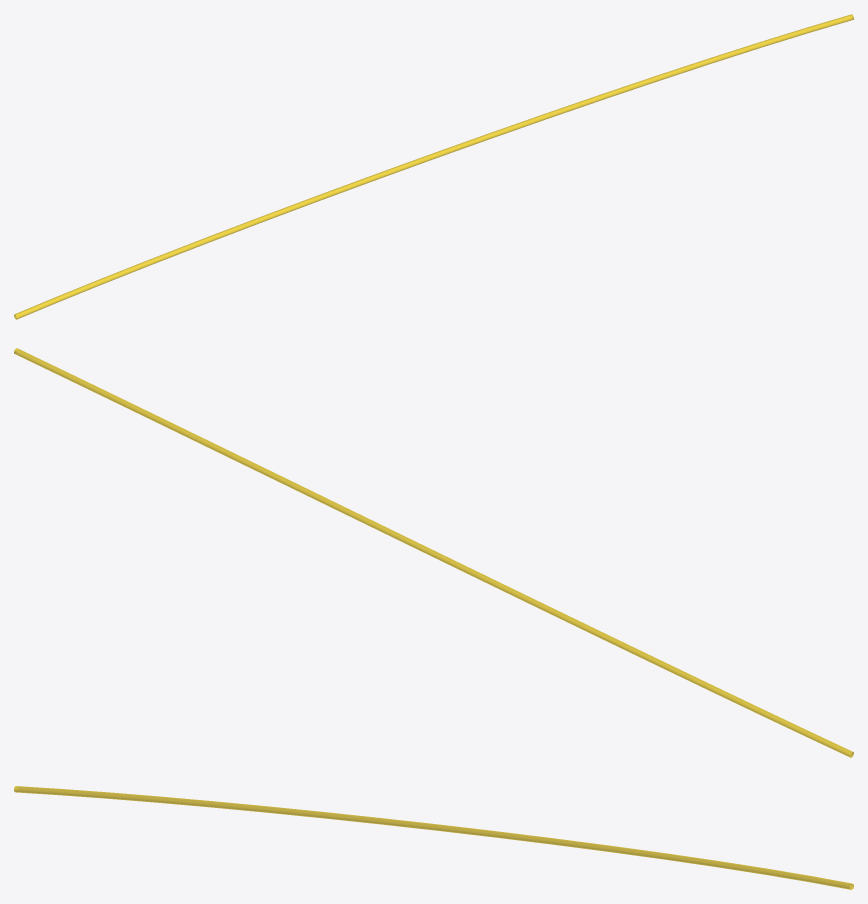
Rendered from Event_402970704_track_22.fbx.
The picture shows the model from 3 angles, top to bottom: view 1: azimuth 30°, elevation 25°; view 2: azimuth 150°, elevation 25°; view 3: azimuth 330°, elevation 25°; orthographic projection. The views are drawn at different scales.
Parts seen in each view (by area): view 1: Model; view 2: Model; view 3: Model.
Part boxes in pixels (x1,y1,x2,y2): Model: (14, 14, 853, 319); Model: (14, 348, 853, 757); Model: (14, 786, 853, 889).
Size of the model in its own units: 6.3 by 1.08 by 0.6285.
